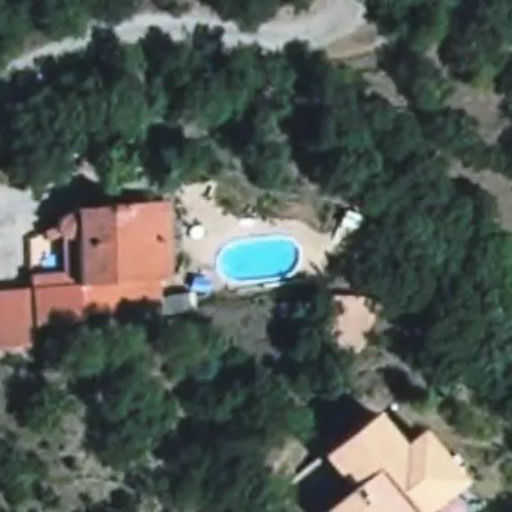pool: (215, 231, 295, 257)
